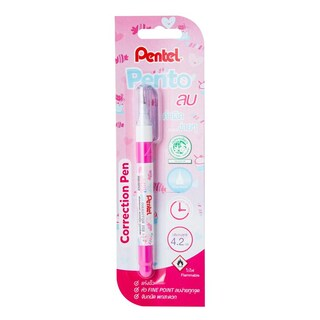Correction_fluid: (131, 82, 168, 290)
